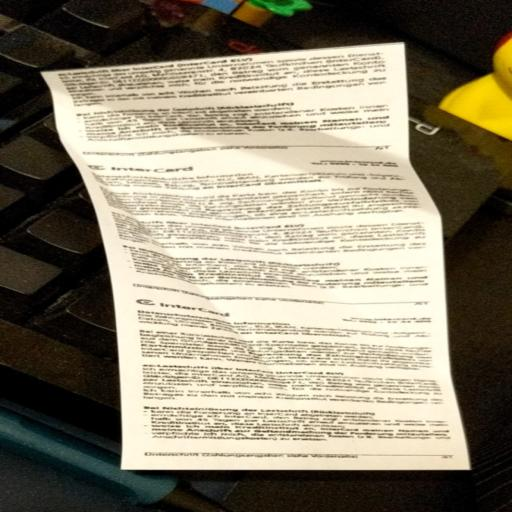paper: (22, 26, 498, 488)
